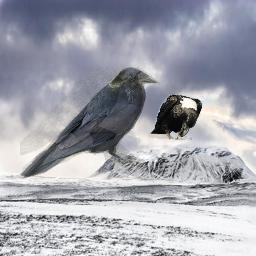Crow: (20, 67, 160, 179), (149, 93, 203, 141)
